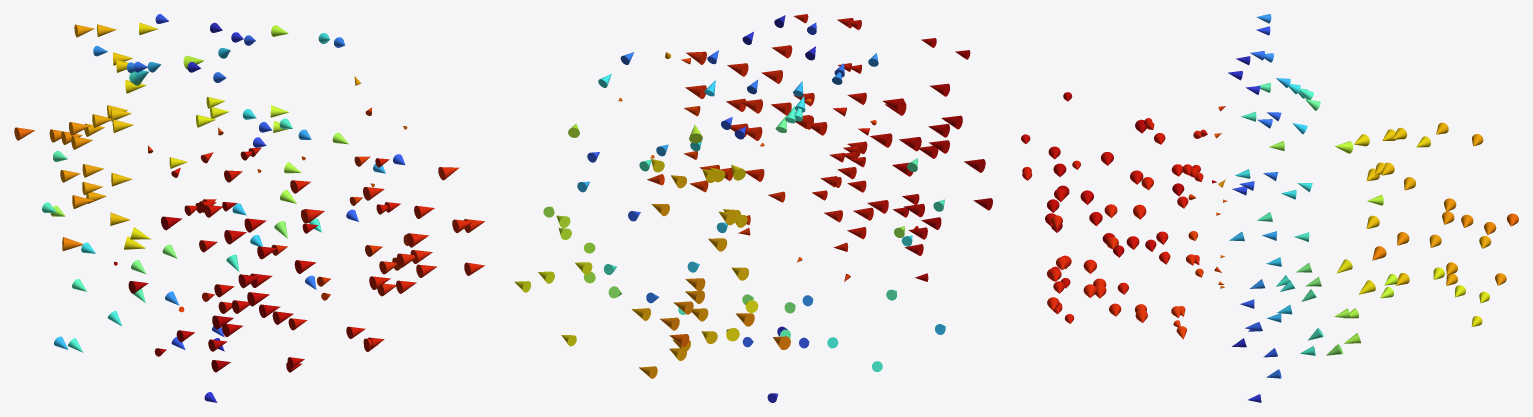
File: LineasCorrienteH2-O2_mh2-5.58_V-0.8.glb
The picture shows the model from 3 angles, left to right: view 1: azimuth 30°, elevation 25°; view 2: azimuth 150°, elevation 25°; view 3: azimuth 270°, elevation 25°; orthographic projection. The views are drawn at different scales.
Bounding box in the file's own units: 0.000925 × 0.000968 × 0.00123.
2 materials, 2 textured.
